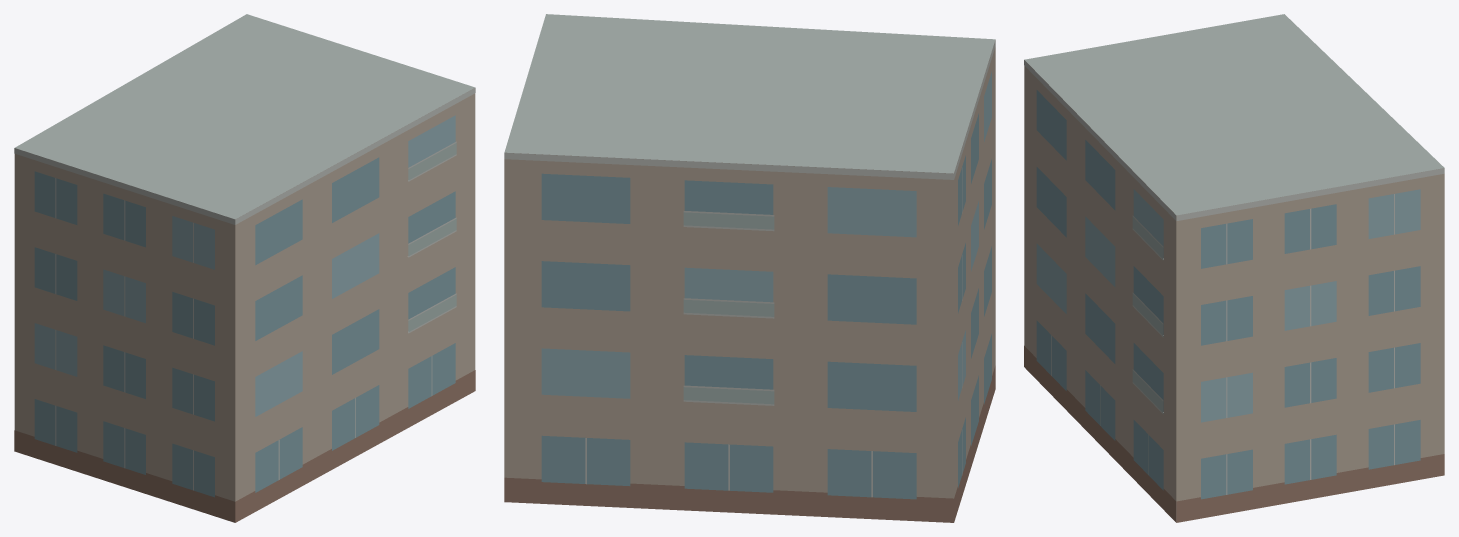
Rendered from survey-upis-32964303.glb.
The picture shows the model from 3 angles, left to right: view 1: azimuth 30°, elevation 25°; view 2: azimuth 150°, elevation 25°; view 3: azimuth 270°, elevation 25°; orthographic projection. The views are drawn at different scales.
Visible parts, largest first — view 1: survey-upis-32964303.tmp; view 2: survey-upis-32964303.tmp; view 3: survey-upis-32964303.tmp.
Boxes of the visible parts, x1,y1,x2,y2 form: survey-upis-32964303.tmp: (14,14,475,522); survey-upis-32964303.tmp: (504,14,995,522); survey-upis-32964303.tmp: (1024,14,1444,522).
Size of the model in its own units: 18.43 by 13.1 by 16.25.
